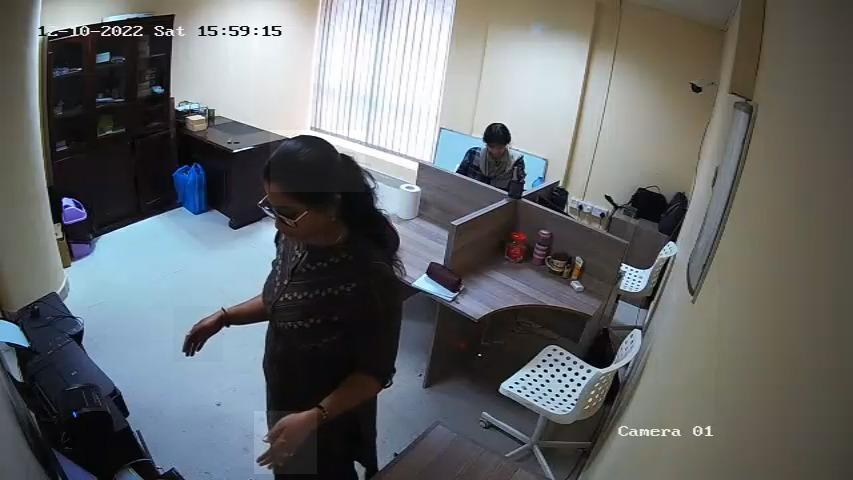no_apron: (255, 411, 318, 474), (174, 307, 224, 363)
no_gloves: (270, 130, 365, 192), (480, 119, 514, 147)
no_hairnet: (262, 205, 324, 244), (488, 144, 508, 162)
